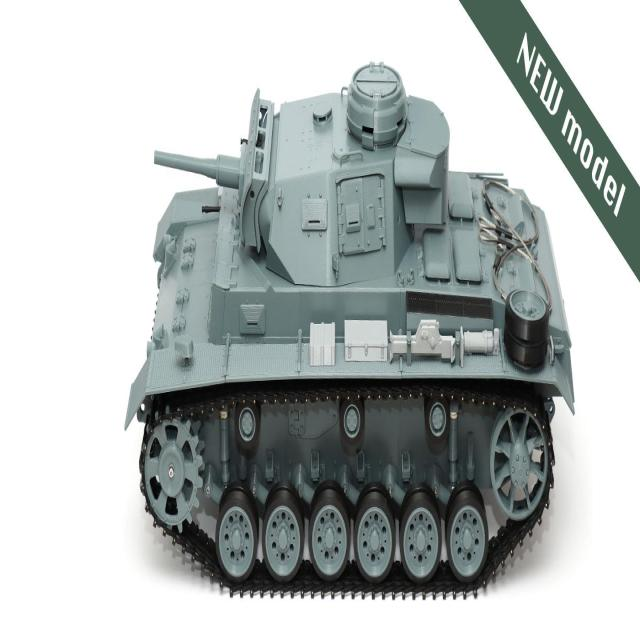Without deffect: (117, 62, 579, 602)
